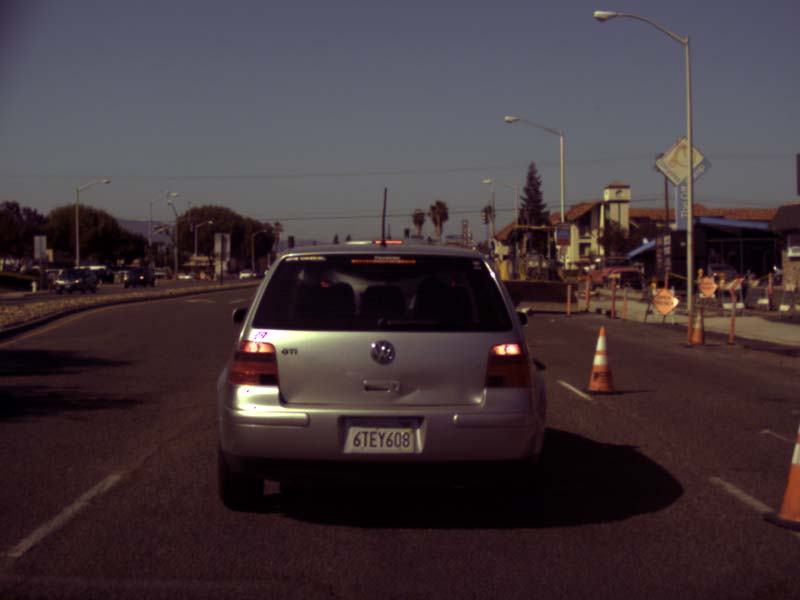Green: (403, 227, 410, 239)
